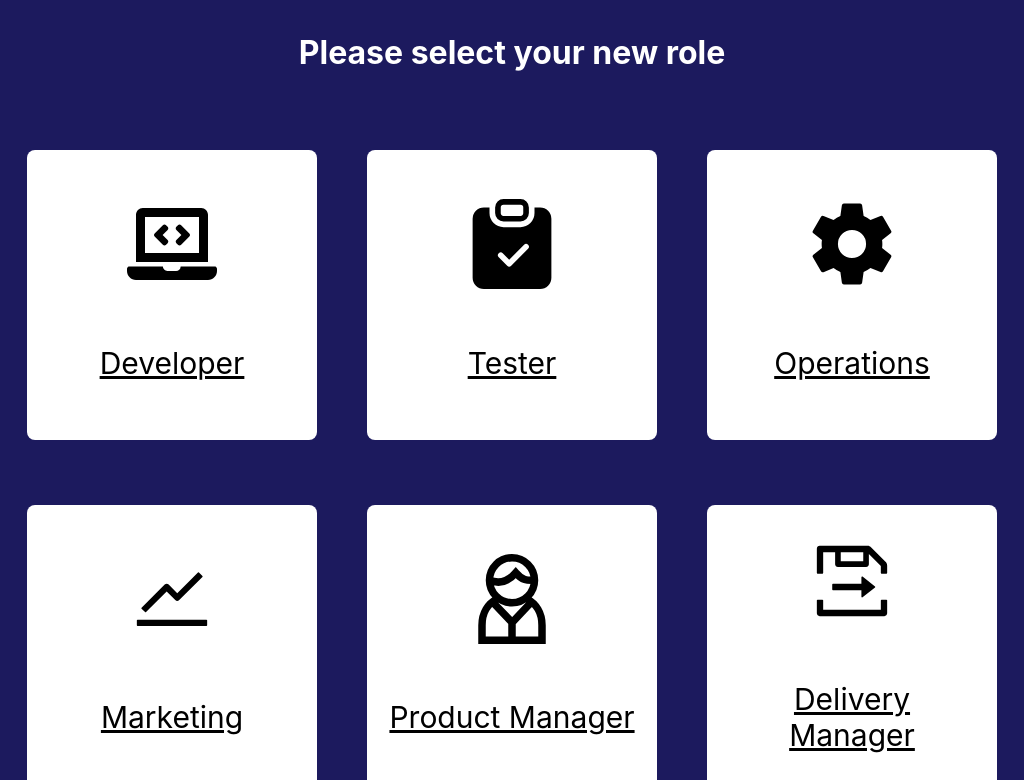
Test: Developer page loads on click › should navigate to the Developer Page on Developer card click
The image size is (1024, 780).
Click the link "Developer": (172, 244) top-left (27, 150), bottom-right (317, 440)
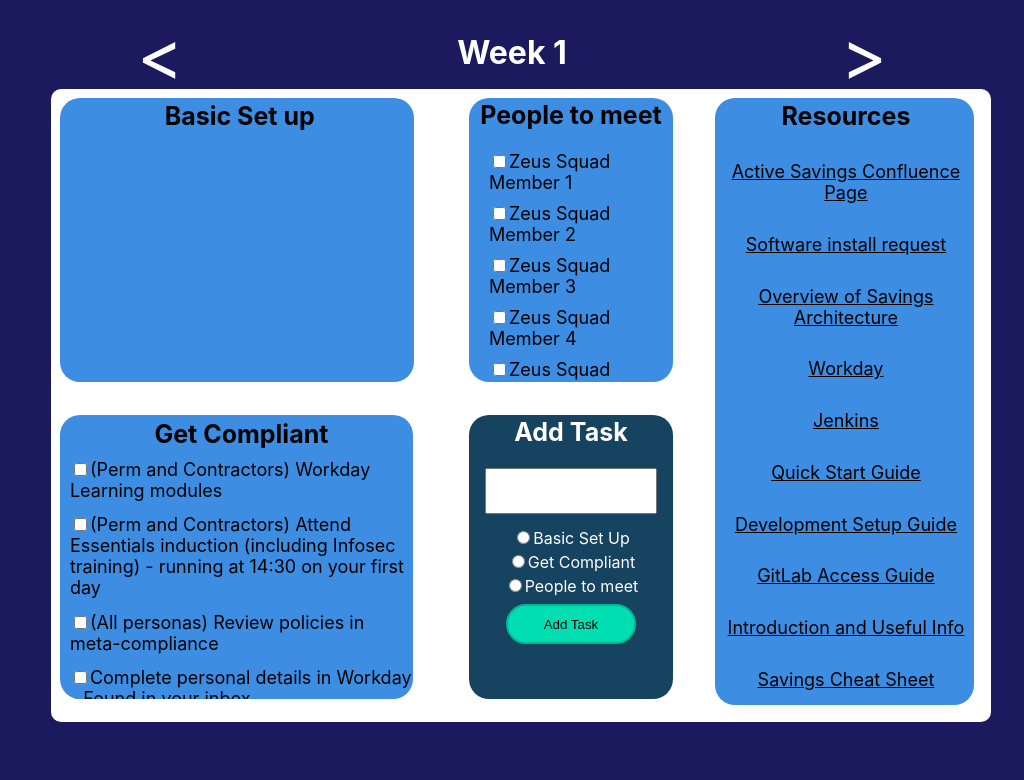
Expected: the heading "Week 1" is shown, top-left (457, 33), bottom-right (567, 67)
